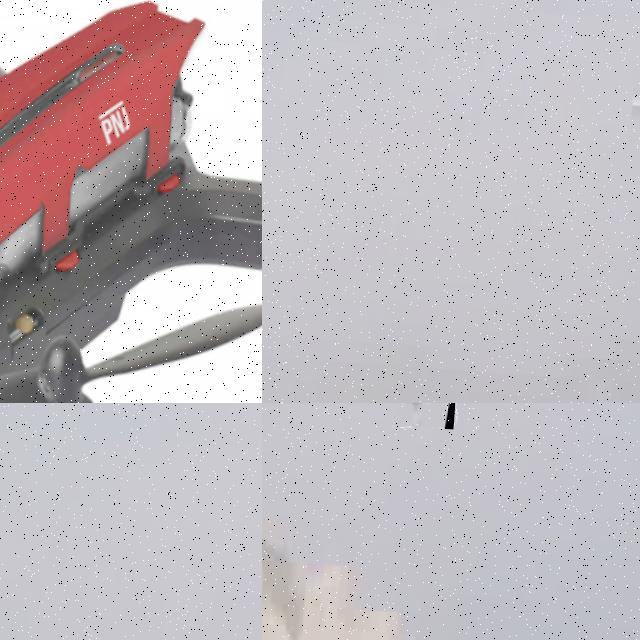0: (384, 403, 460, 429)
drone: (0, 0, 262, 403)
